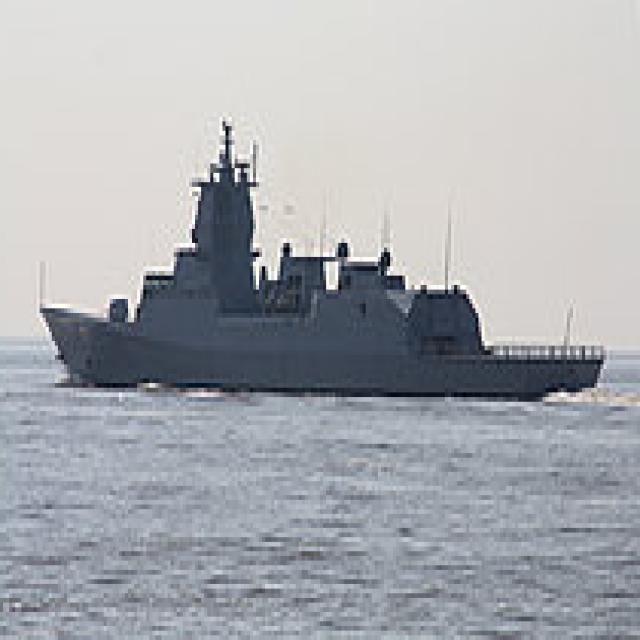Warship: (36, 107, 610, 402)
